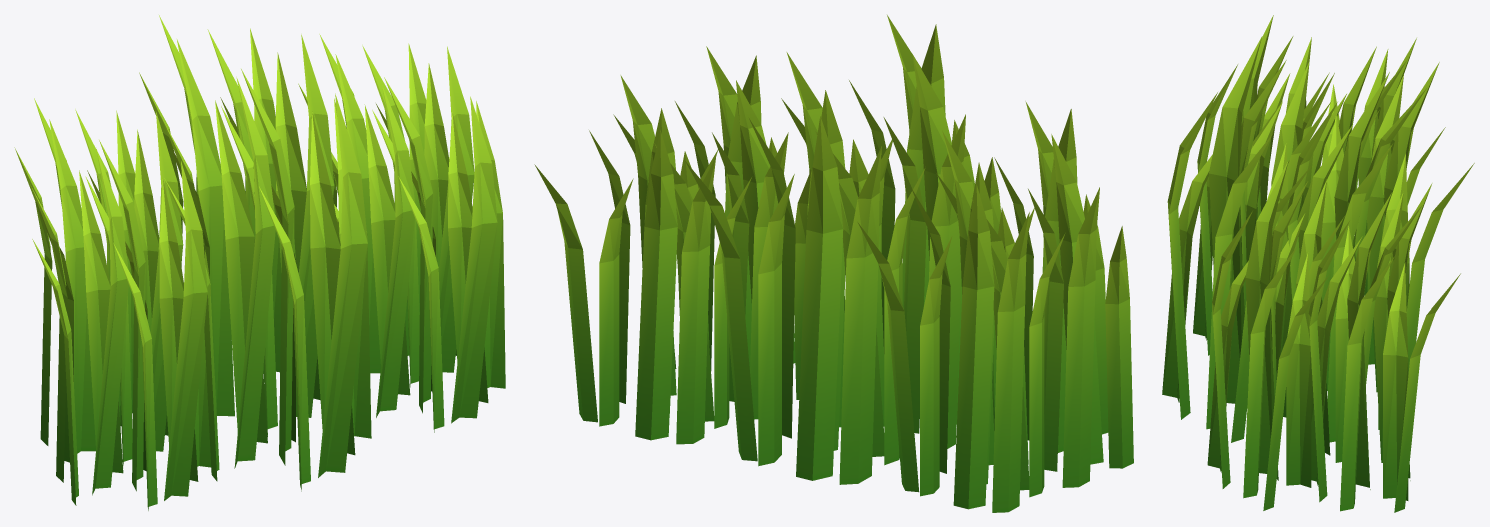
The model's file is reedbig.glb.
3 views of the same model, side by side, from view 1: azimuth 30°, elevation 25°; view 2: azimuth 150°, elevation 25°; view 3: azimuth 270°, elevation 25° (orthographic). The views are drawn at different scales.
Visible parts, largest first — view 1: MAT_DESERT1; view 2: MAT_DESERT1; view 3: MAT_DESERT1.
Boxes of the visible parts, left/top/right/bottom form: MAT_DESERT1: left=14, top=15, right=505, bottom=510; MAT_DESERT1: left=534, top=15, right=1133, bottom=512; MAT_DESERT1: left=1162, top=15, right=1474, bottom=512.
Size of the model in its own units: 3.21 by 2.53 by 2.02.
Materials: 1 (1 with a texture image).
